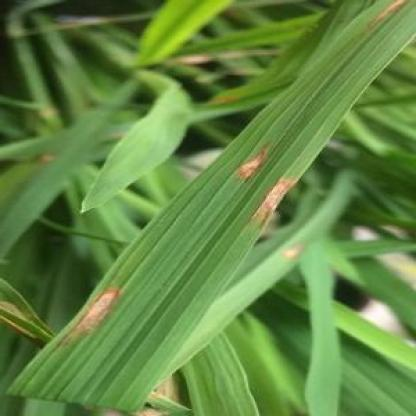Rice blast: (57, 274, 122, 356), (245, 173, 302, 242), (238, 138, 273, 187)
